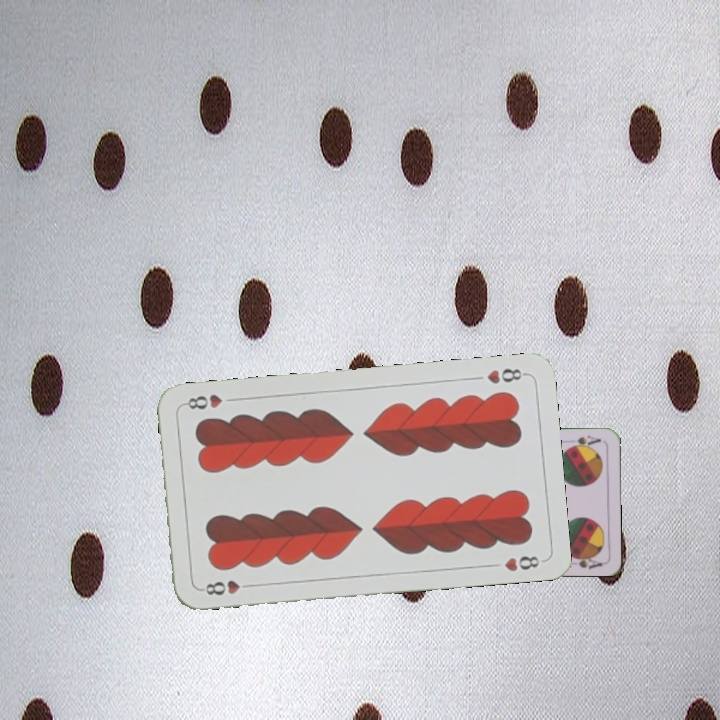H8: (197, 576, 256, 598), (483, 364, 529, 387)
SA: (564, 431, 603, 451)
